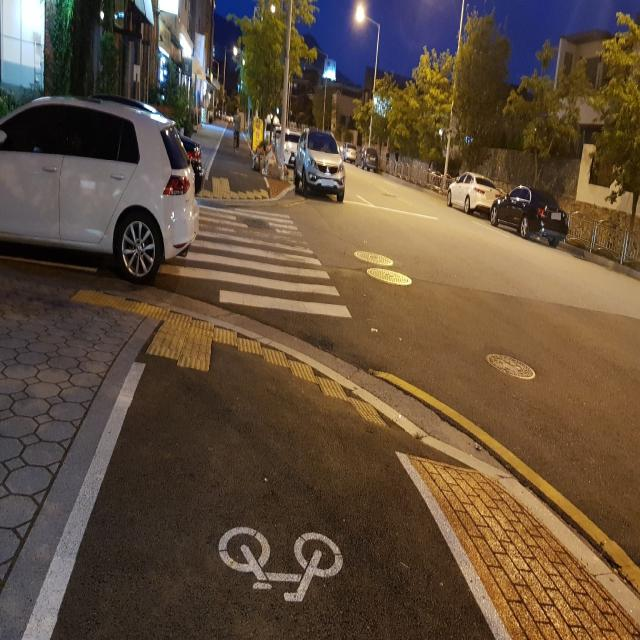횡단보도: (157, 204, 353, 320)
